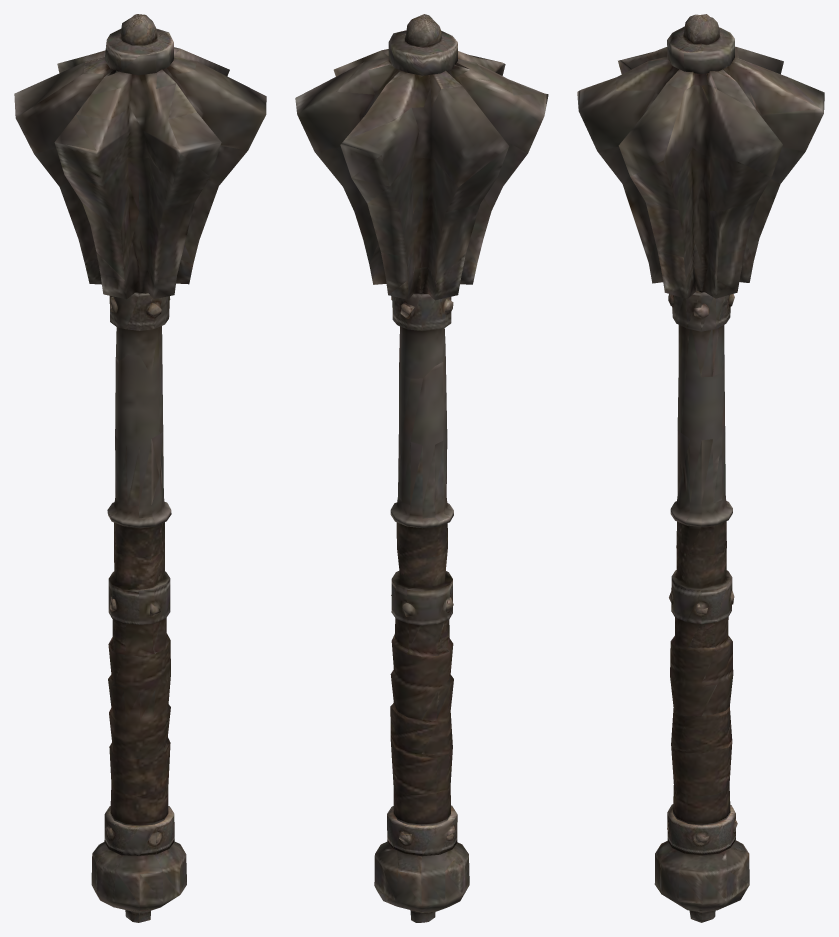
File: w_mace.glb
The picture shows the model from 3 angles, left to right: view 1: azimuth 30°, elevation 25°; view 2: azimuth 150°, elevation 25°; view 3: azimuth 270°, elevation 25°; orthographic projection.
Visible parts, largest first — view 1: w_mace; view 2: w_mace; view 3: w_mace.
Boxes of the visible parts, bbox=[...] form: w_mace: bbox=[14, 14, 266, 922]; w_mace: bbox=[295, 14, 548, 922]; w_mace: bbox=[577, 14, 824, 922].
Size of the model in its own units: 0.3101 by 1.25 by 0.3103.
Materials: 1 (1 with a texture image).
